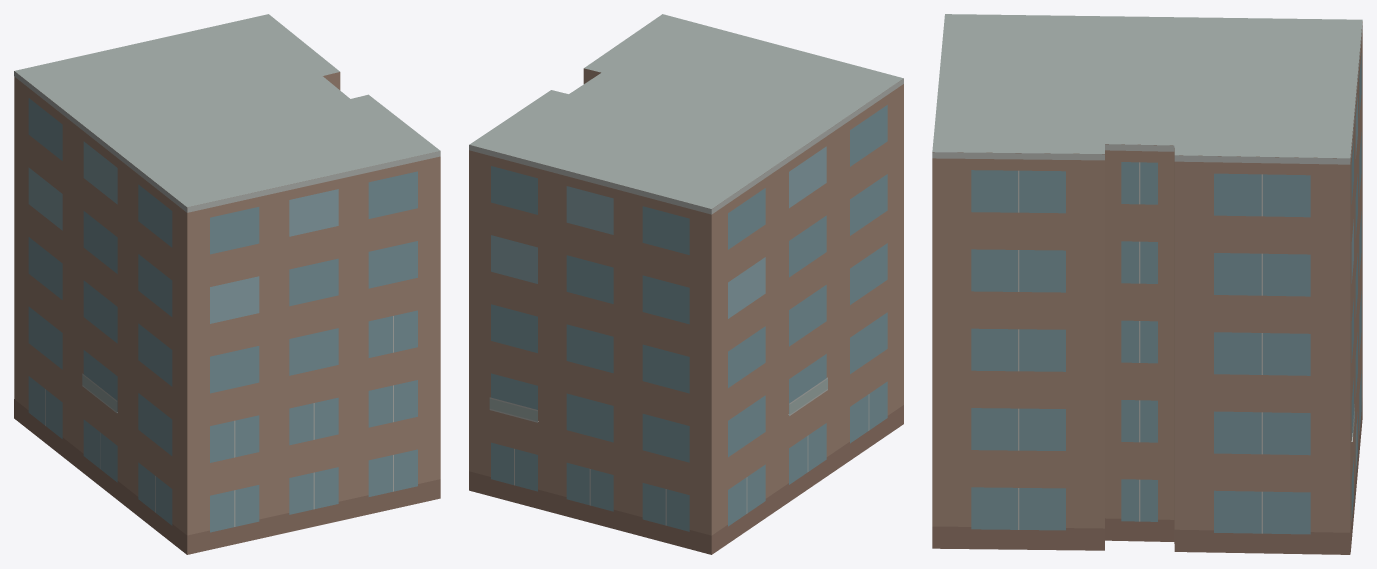
The model's file is survey-upis-32655668.glb.
3 views of the same model, side by side, from view 1: azimuth 30°, elevation 25°; view 2: azimuth 150°, elevation 25°; view 3: azimuth 270°, elevation 25° (orthographic). The views are drawn at different scales.
Parts seen in each view (by area): view 1: survey-upis-32655668.tmp; view 2: survey-upis-32655668.tmp; view 3: survey-upis-32655668.tmp.
Boxes of the visible parts, x1,y1,x2,y2 form: survey-upis-32655668.tmp: (14, 14, 440, 554); survey-upis-32655668.tmp: (469, 14, 903, 554); survey-upis-32655668.tmp: (932, 14, 1362, 554).
Bounding box in the file's own units: 11.92 × 15.25 × 15.01.
